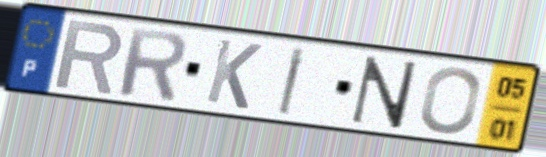I: (274, 44, 310, 118)
K: (201, 36, 265, 113)
N: (346, 54, 422, 132)
O: (417, 65, 484, 136)
R: (51, 17, 127, 97), (116, 24, 190, 103)
